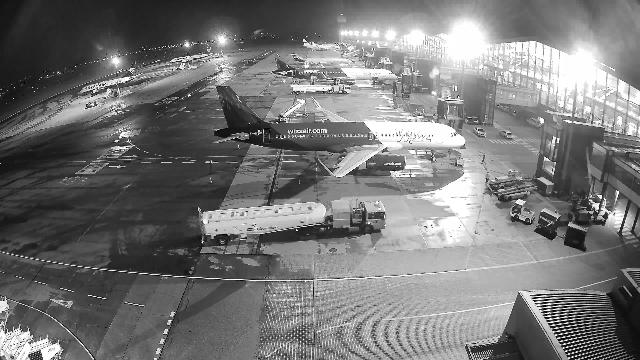Aircraft: (209, 86, 466, 178), (271, 52, 398, 86), (80, 61, 143, 94), (170, 46, 214, 63), (288, 53, 353, 64), (303, 39, 340, 49)
Airport_Tractor: (509, 199, 536, 224), (586, 194, 606, 211), (279, 113, 287, 123), (280, 78, 286, 84)
Baggage_Trolley: (538, 208, 561, 232), (565, 222, 588, 242), (536, 177, 554, 195), (572, 199, 588, 213), (575, 211, 592, 223), (593, 210, 609, 220)
Conveyor_Belt: (494, 176, 537, 201), (489, 169, 529, 190)
Fuel_Tuck: (198, 199, 387, 245), (291, 84, 351, 94)
Ground_Crew: (485, 171, 491, 184), (481, 152, 486, 164)
